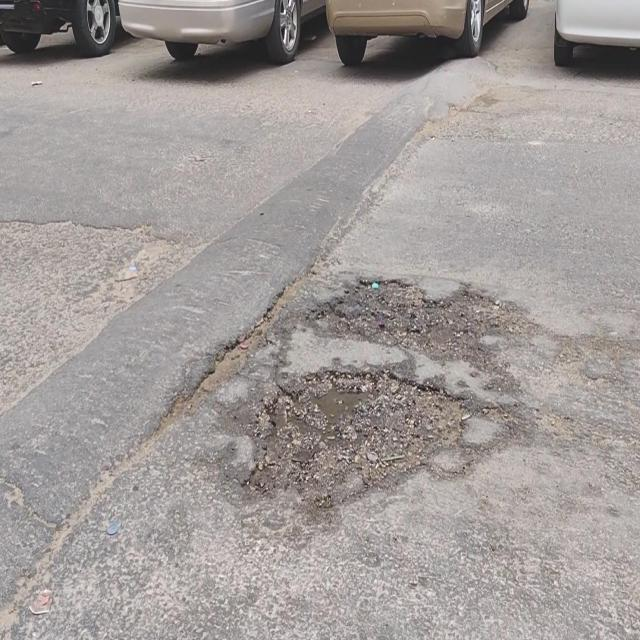Potholes: (244, 365, 463, 517), (319, 283, 510, 384)
